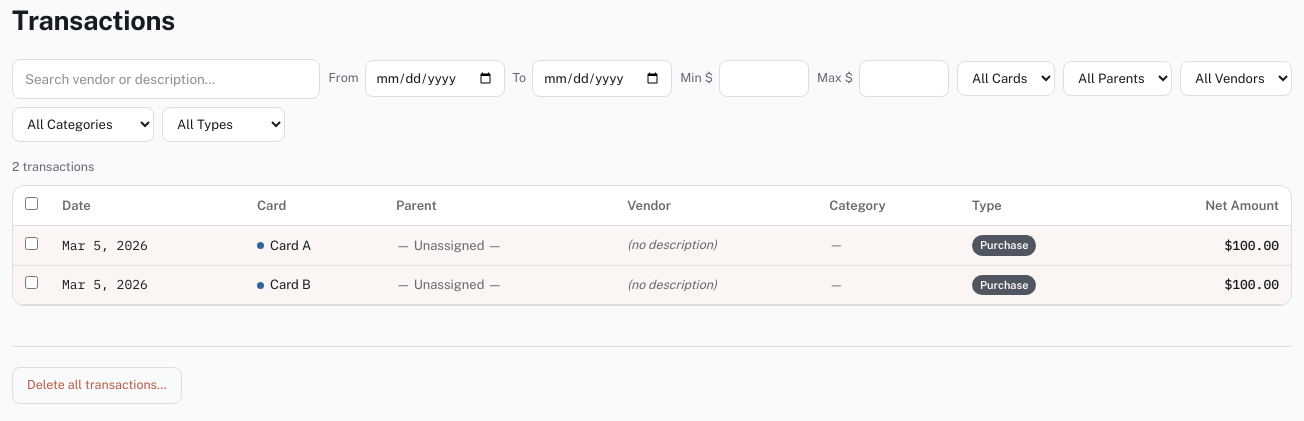
Test: Transactions delete filtered › cancels the pending 'delete filtered' confirmation when the filter changes underneath it
This screenshot has width=1304, height=421.
Select "Card A" in the 1st dropdown showing "All Cards" at [1006, 79], box 957,61 -> 1055,96
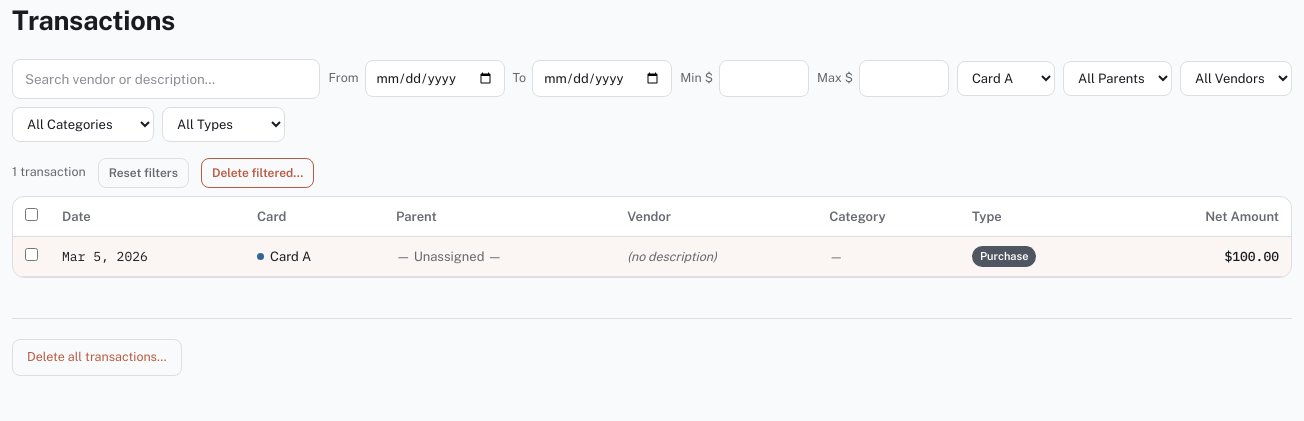
Click the button "Delete filtered…".
click(258, 173)  # box 201,158 -> 314,188
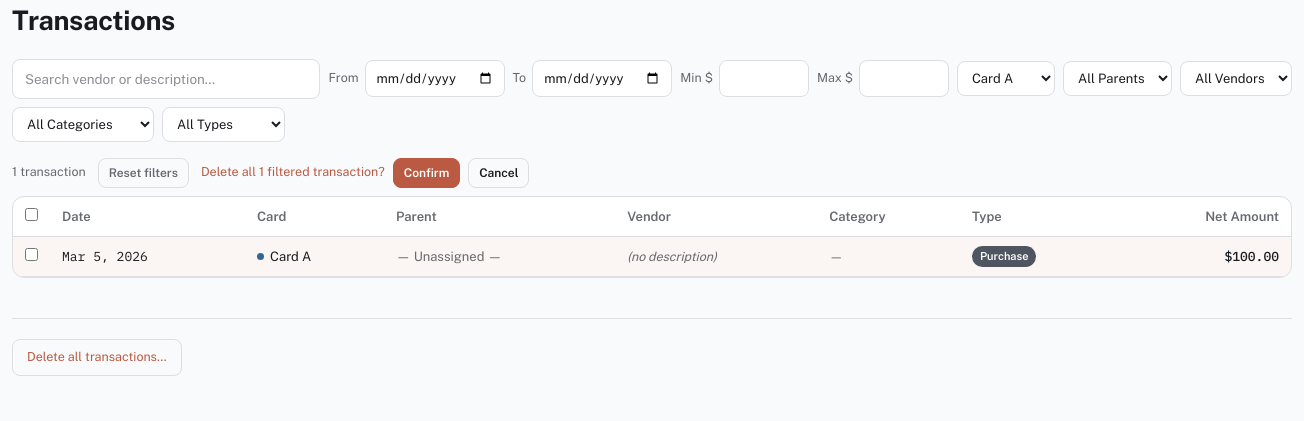
Result: the text "Delete all 1 filtered transaction?" is shown at 201,163 -> 385,182
Select "Card B" in the 1st dropdown showing "Card A" at [1006, 79], box 957,61 -> 1055,96
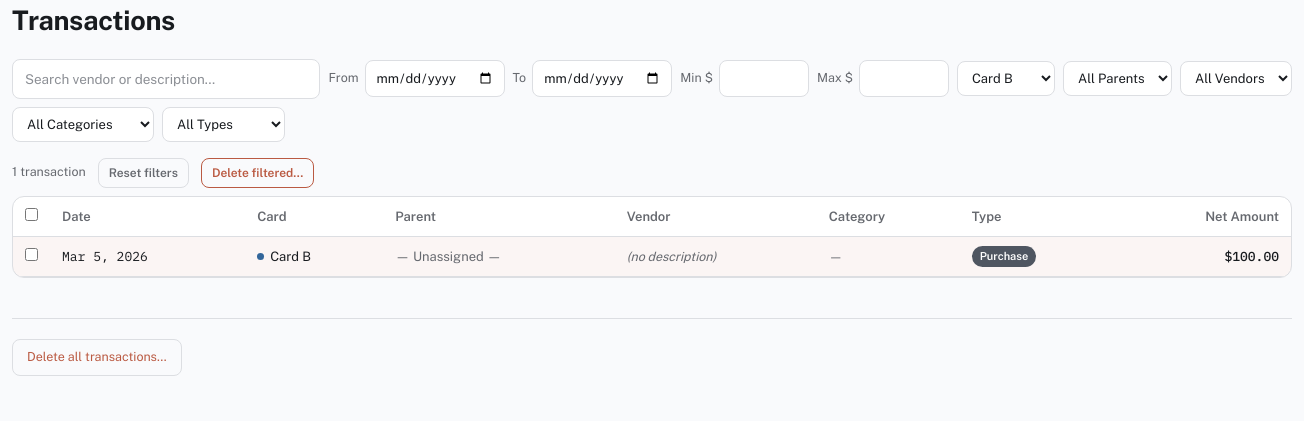
Result: the text "Delete all 1 filtered transaction?" is gone
